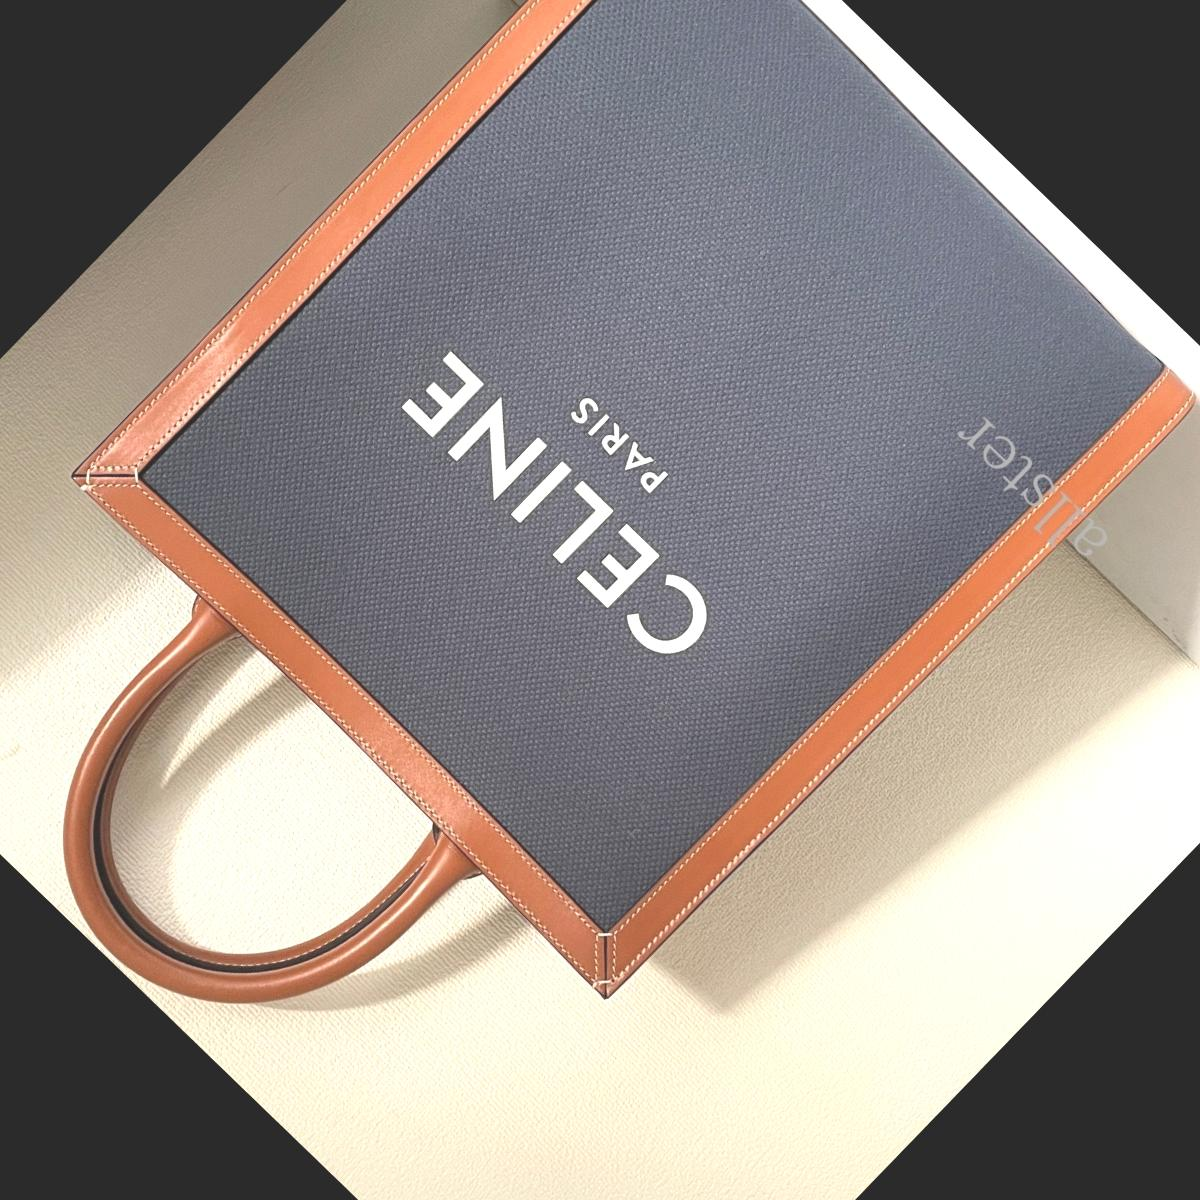CELINE: (392, 344, 726, 671)
